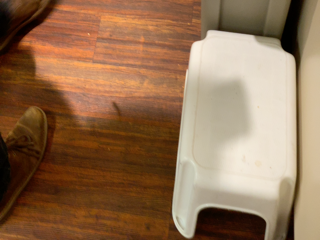Obstacle: (170, 23, 304, 239), (2, 100, 49, 226)
